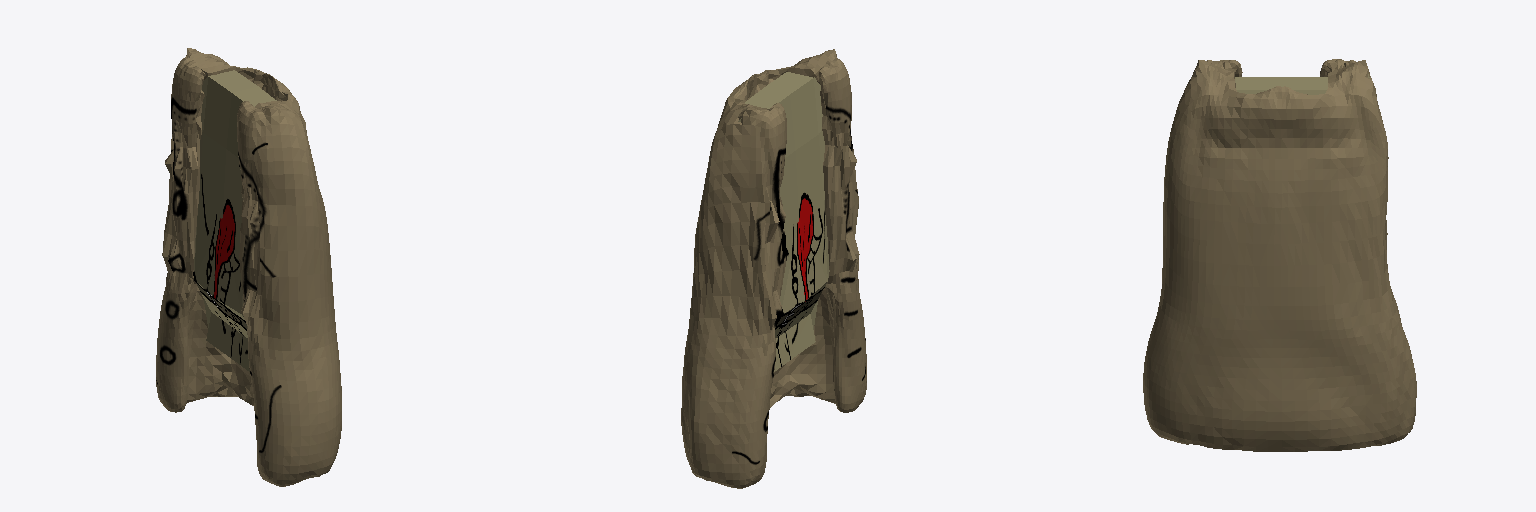
3 renders of one model, left to right at view 1: azimuth 30°, elevation 25°; view 2: azimuth 150°, elevation 25°; view 3: azimuth 270°, elevation 25°, orthographic.
Visible parts, largest first — view 1: Cube.006_Cube.005, Cube.001_Cube; view 2: Cube.006_Cube.005, Cube.001_Cube; view 3: Cube.006_Cube.005, Cube.001_Cube.
Part boxes in pixels (x1,y1,x2,y2): Cube.006_Cube.005: (156,48,341,486); Cube.001_Cube: (193,70,276,371); Cube.006_Cube.005: (681,49,866,488); Cube.001_Cube: (738,72,829,371); Cube.006_Cube.005: (1143,59,1416,451); Cube.001_Cube: (1235,74,1369,94).
Size of the model in its own units: 2.73 by 9.3 by 6.27.
Materials: 2 (2 with a texture image).